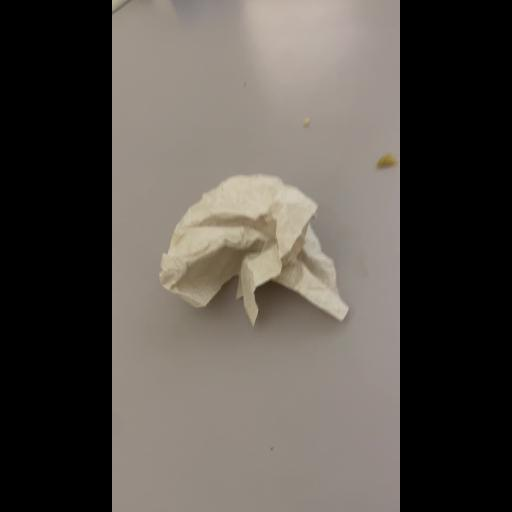napkin: (146, 164, 358, 350)
